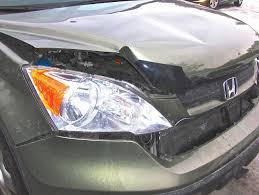bonnet-dent: (19, 8, 210, 80)
